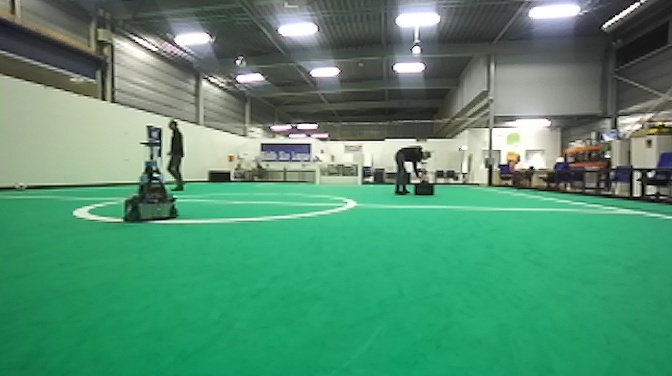ball: (10, 180, 31, 195)
goal: (315, 159, 364, 188)
goalpost: (356, 163, 364, 190), (314, 160, 322, 186)
human: (161, 118, 191, 194), (392, 144, 435, 197)
robot: (119, 139, 181, 225), (412, 160, 437, 198)
